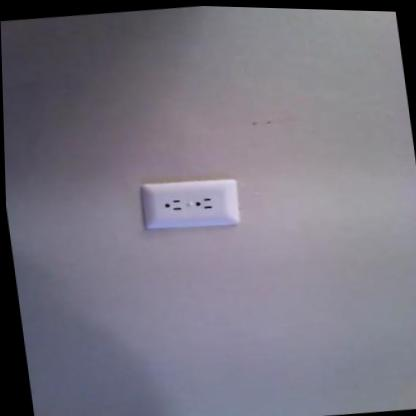OUTLET: (138, 173, 242, 233)
